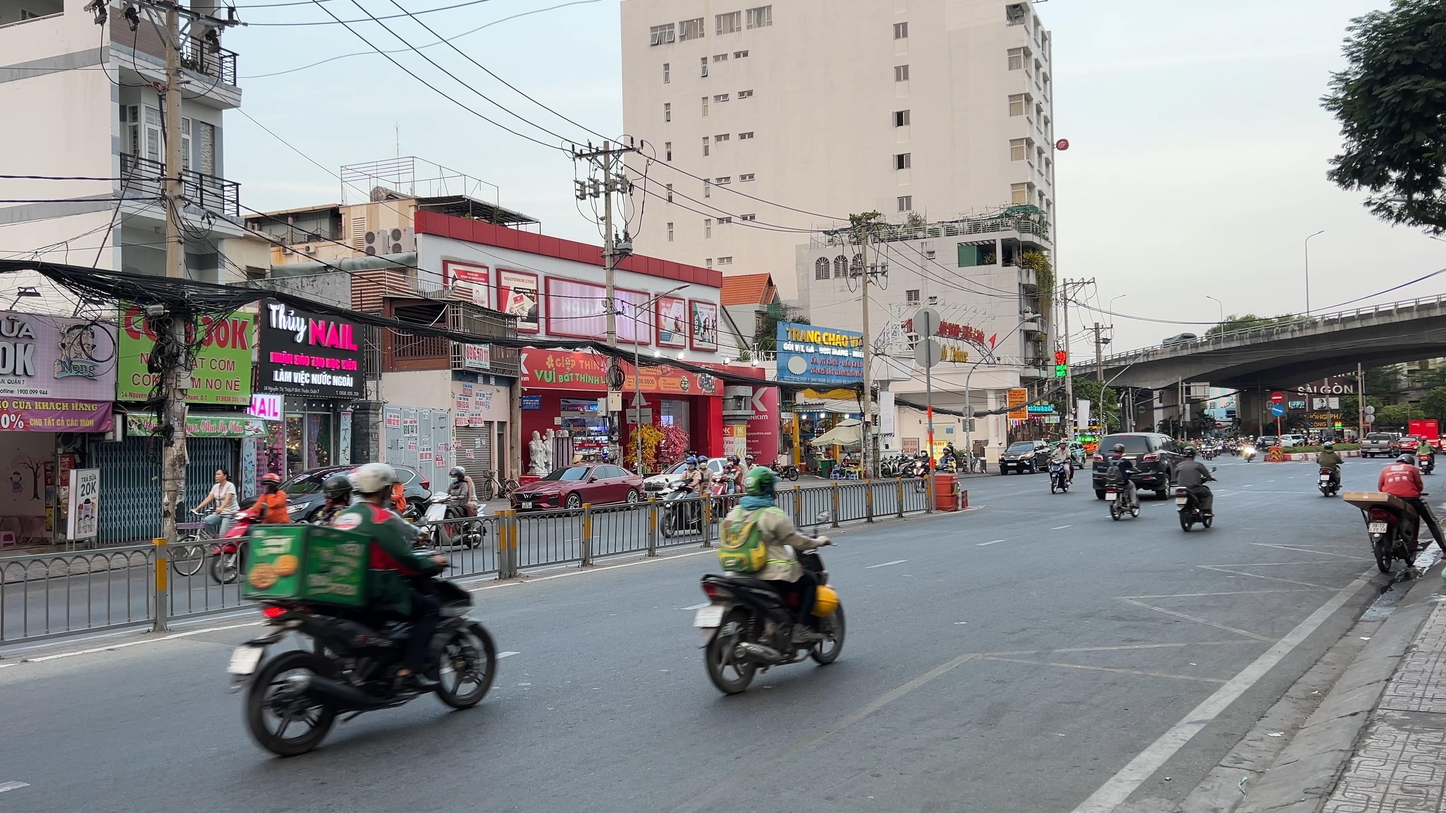bicyclist: (172, 468, 240, 577)
driver: (228, 461, 496, 757), (692, 466, 845, 694), (1343, 453, 1446, 573), (211, 472, 310, 585), (420, 466, 486, 550), (660, 455, 716, 538), (1175, 446, 1218, 532), (711, 455, 757, 524), (1104, 443, 1142, 521), (1315, 441, 1344, 497), (1047, 440, 1075, 494), (934, 445, 962, 492), (913, 448, 938, 493), (1415, 435, 1437, 475)
helmet: (356, 462, 401, 510), (744, 466, 783, 501), (323, 475, 354, 514), (261, 473, 281, 496), (449, 468, 465, 485), (1396, 453, 1415, 466), (1183, 446, 1197, 461), (686, 457, 698, 471), (1113, 443, 1125, 456), (698, 456, 709, 470), (452, 466, 465, 476), (1059, 439, 1067, 449), (1323, 441, 1333, 449), (1421, 436, 1428, 441)
no-helmet: (215, 468, 229, 484)
